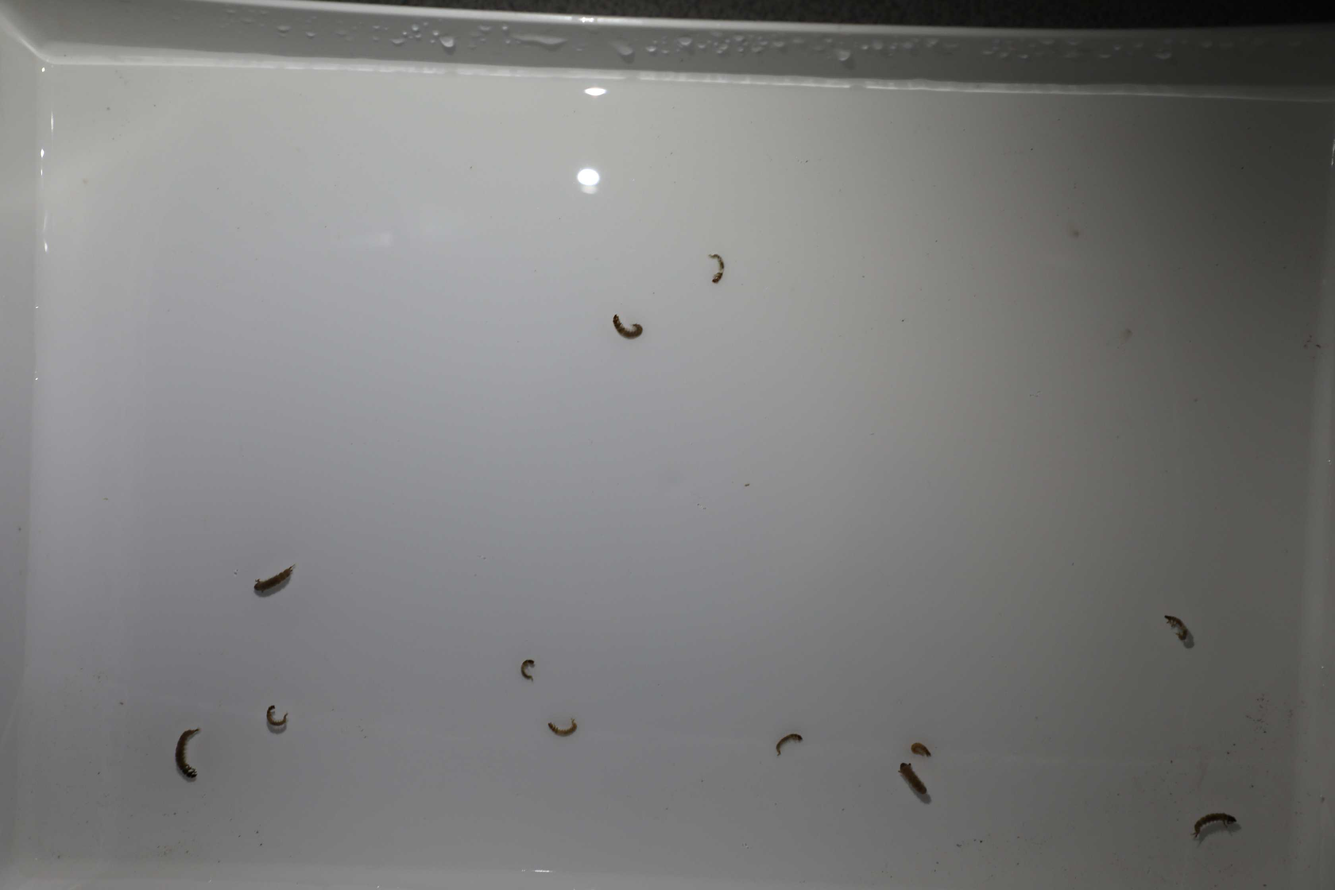Cadisfly: (163, 728, 208, 788), (248, 565, 299, 598), (1191, 809, 1242, 842), (898, 760, 935, 804), (700, 243, 731, 292), (258, 698, 299, 735), (1164, 611, 1199, 651), (608, 314, 646, 342), (542, 717, 585, 740), (773, 730, 804, 758), (515, 657, 543, 682), (905, 740, 935, 760)
